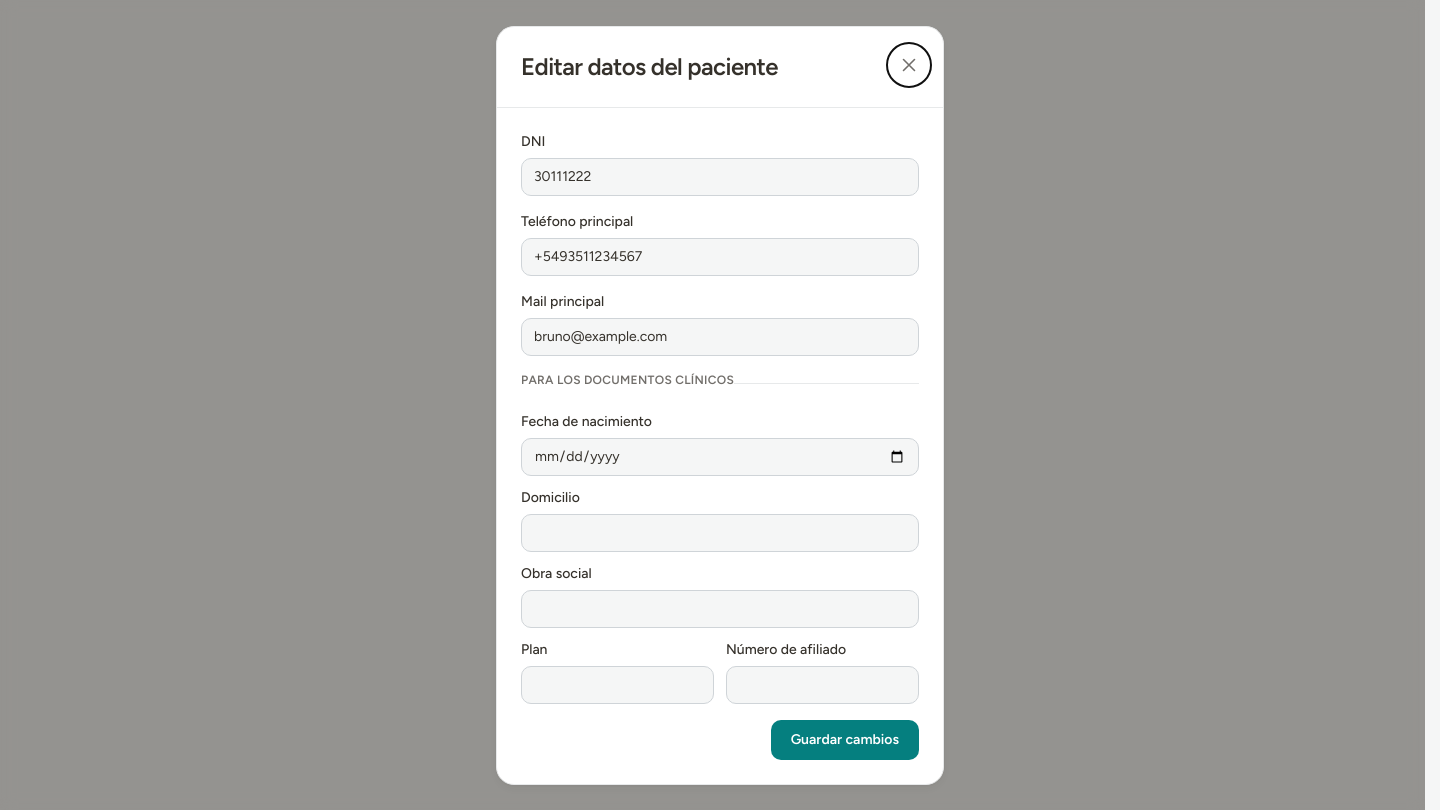
Test: EditarPacienteModal › sin tutor, teléfono y mail son obligatorios (TR-147)
Clear the field labelled "Teléfono principal" at (720, 256), box [521,238,919,276]
Click the button "Guardar cambios" at (845, 740), box [771,720,919,760]
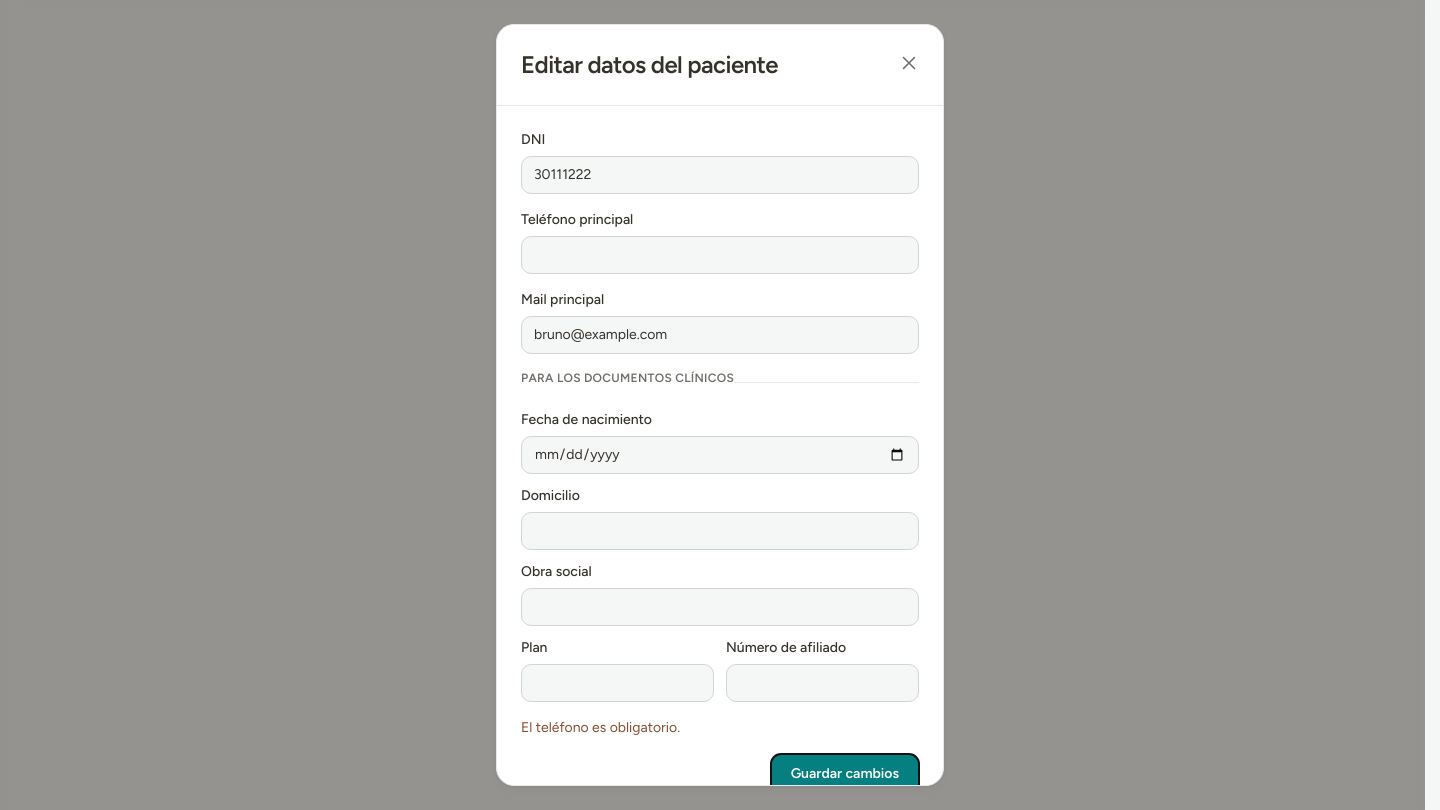
Expected: the message reads "El teléfono es obligatorio.", [521,719,680,736]
Type "+5493511234567" into the field labelled "Teléfono principal" at (720, 255), box [521,236,919,274]
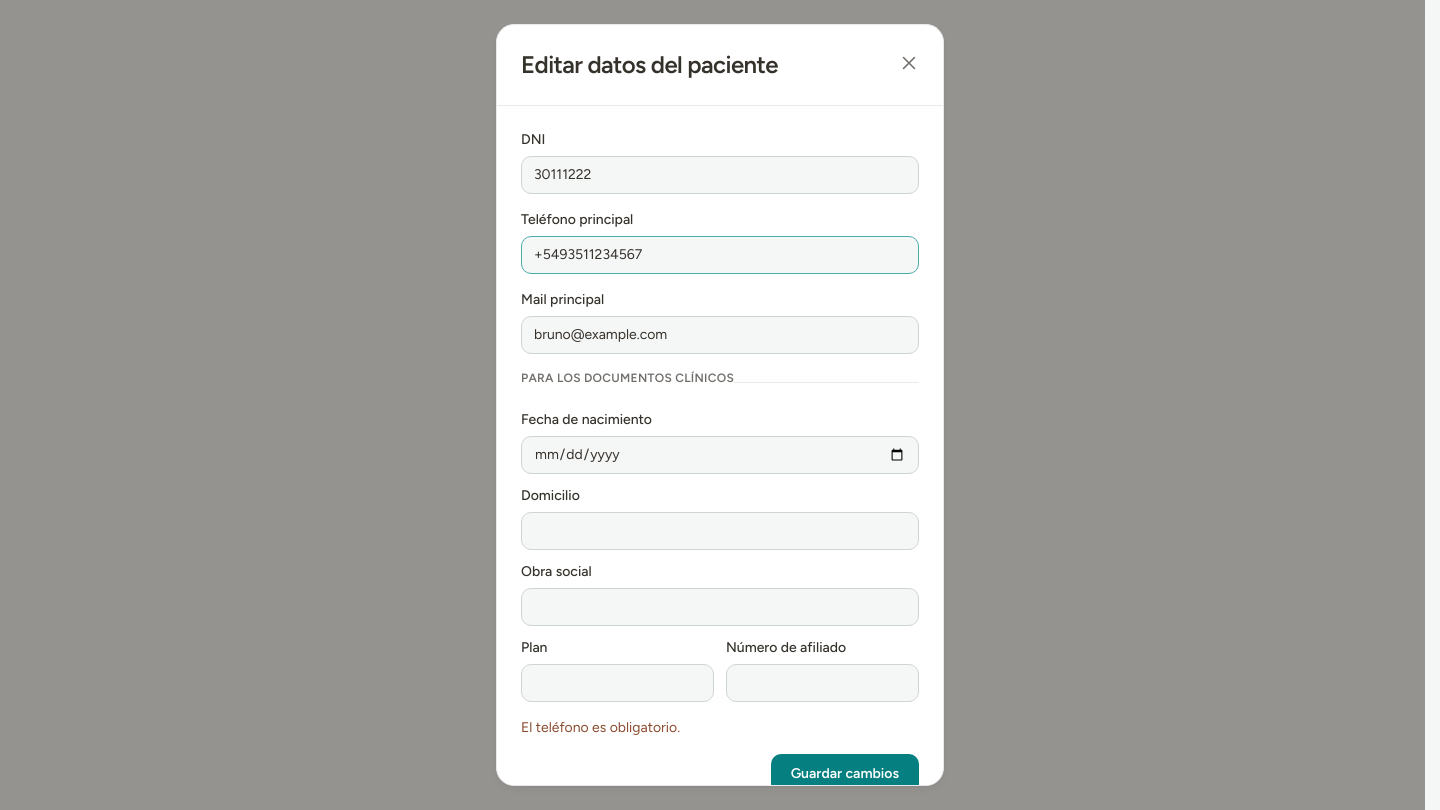
Clear the field labelled "Mail principal" at (720, 335), box [521,316,919,354]
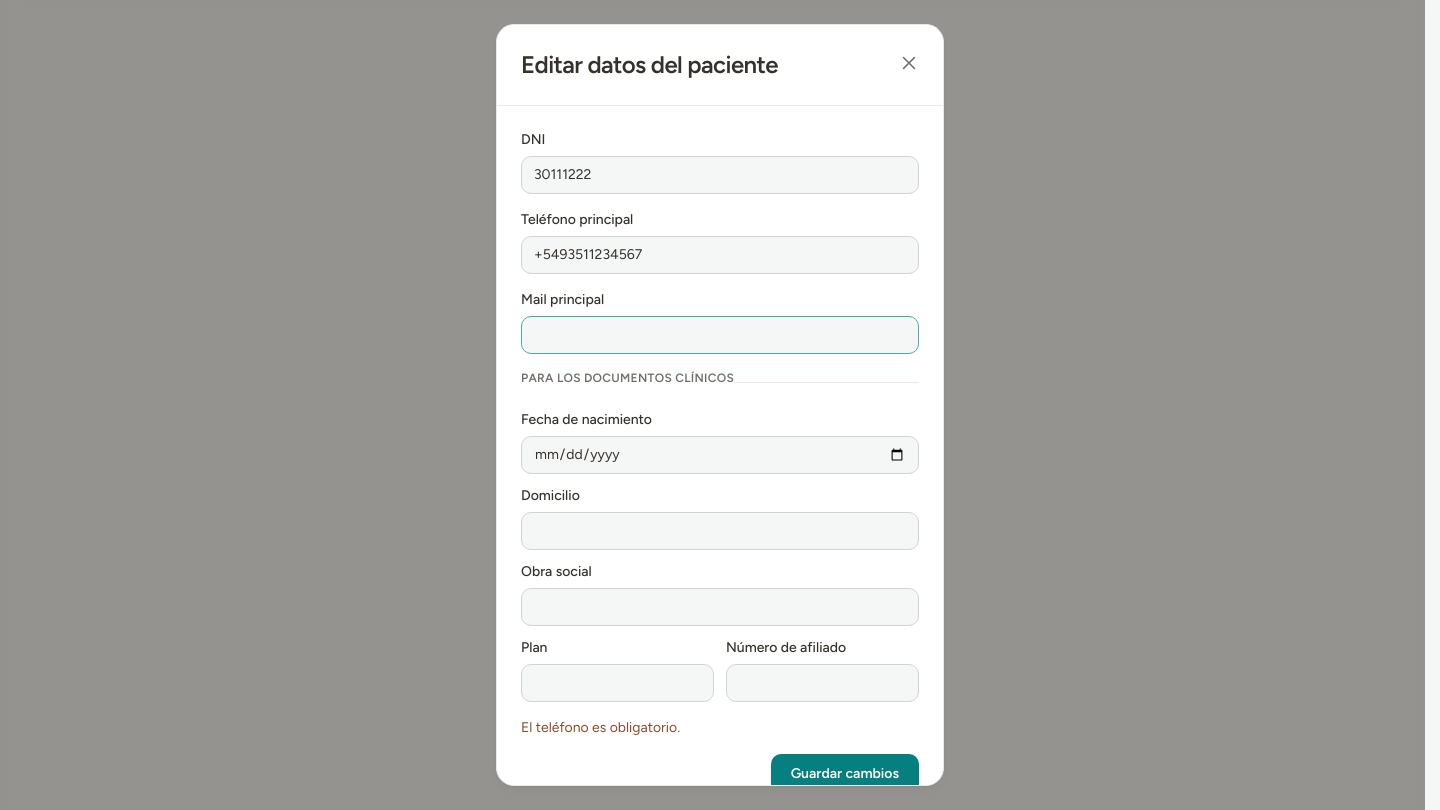
Click the button "Guardar cambios" at (845, 774), box [771,754,919,794]
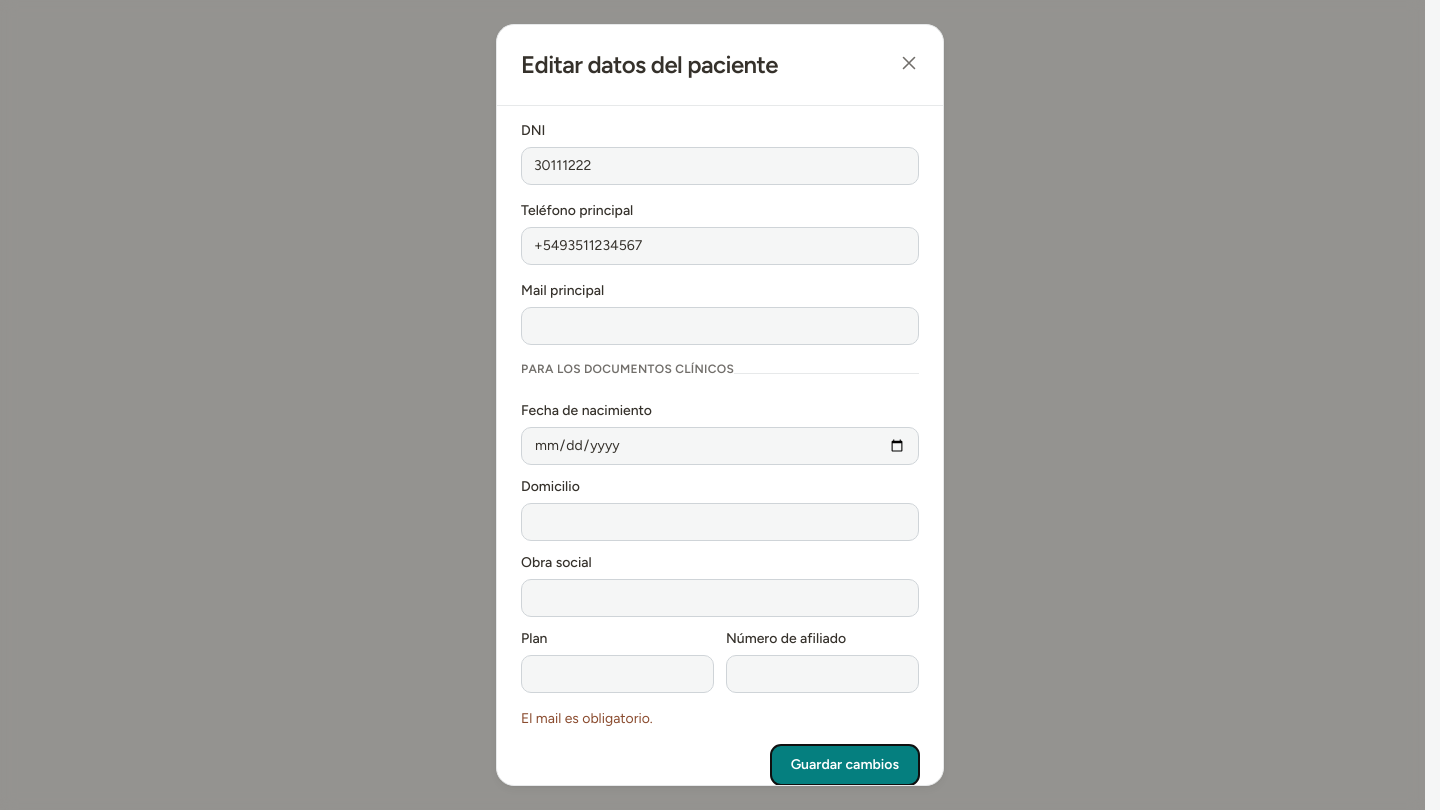
Expected: the message reads "El mail es obligatorio.", [521,710,653,727]
Type "mal" into the field labelled "Mail principal" at (720, 326), box [521,307,919,345]
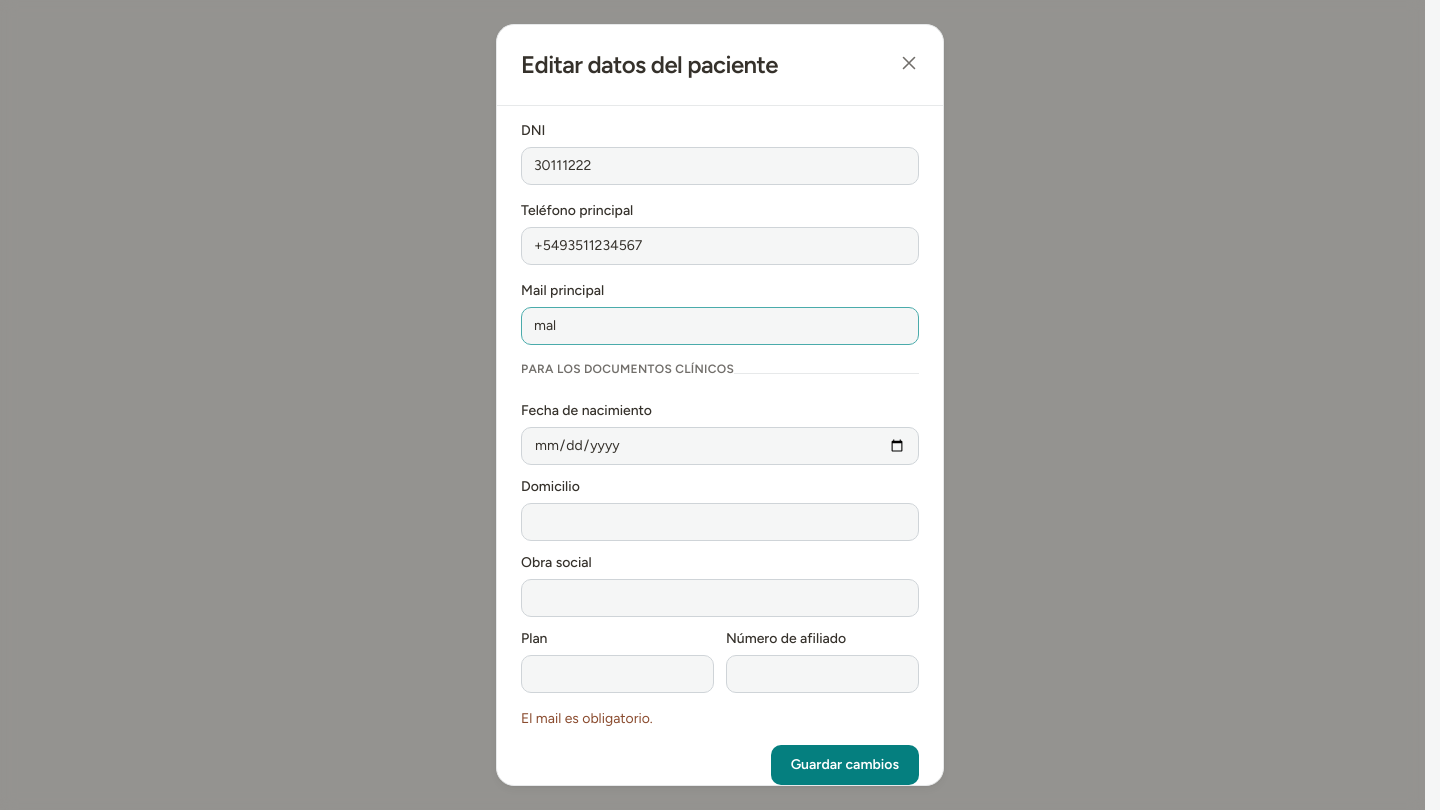
Click the button "Guardar cambios" at (845, 765), box [771,745,919,785]
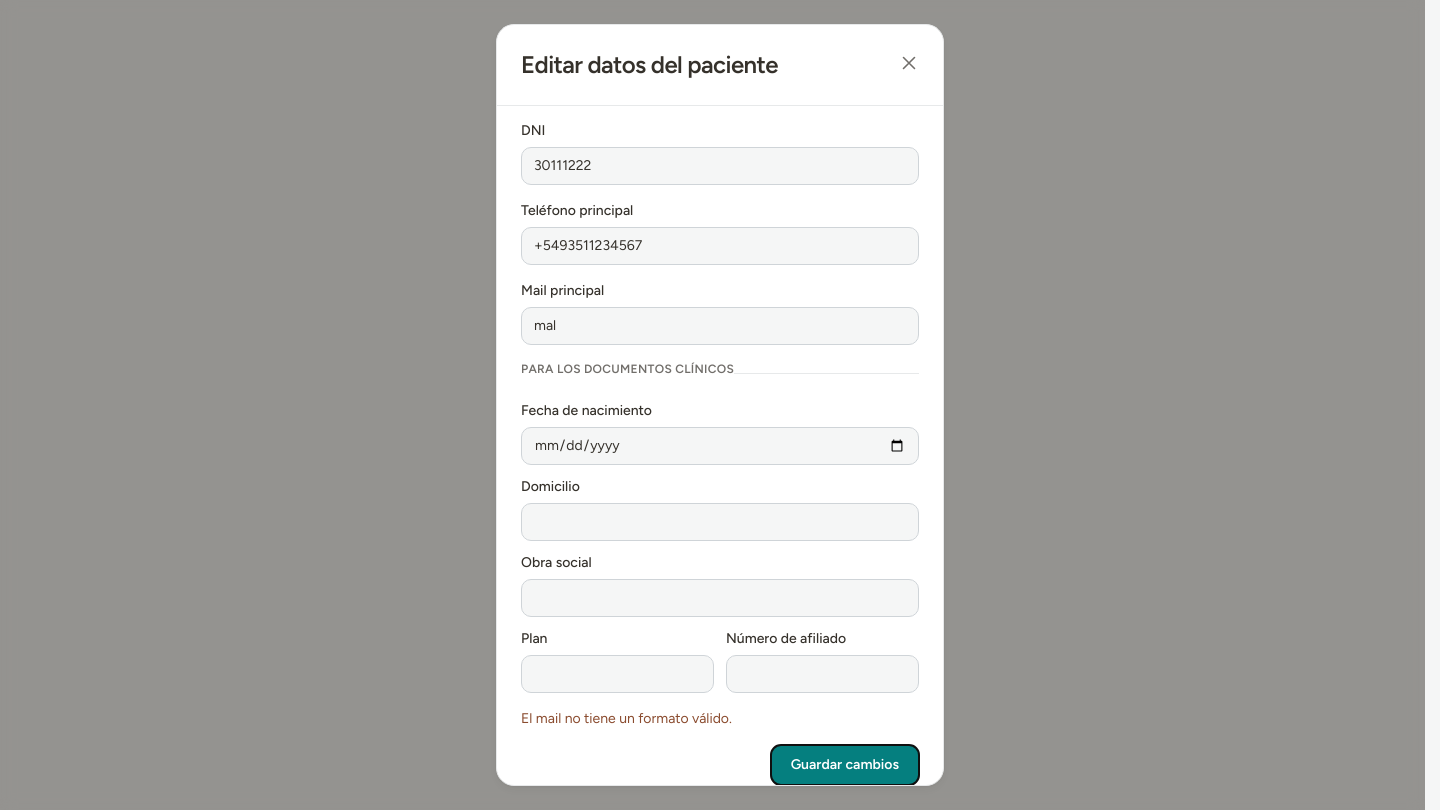
Expected: the message reads "El mail no tiene un formato válido.", [521,710,732,727]
